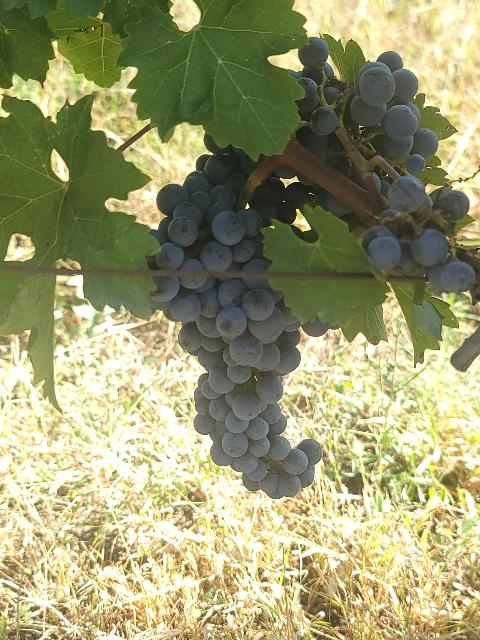grapes: (150, 139, 331, 499), (342, 55, 475, 292), (296, 65, 350, 165)
